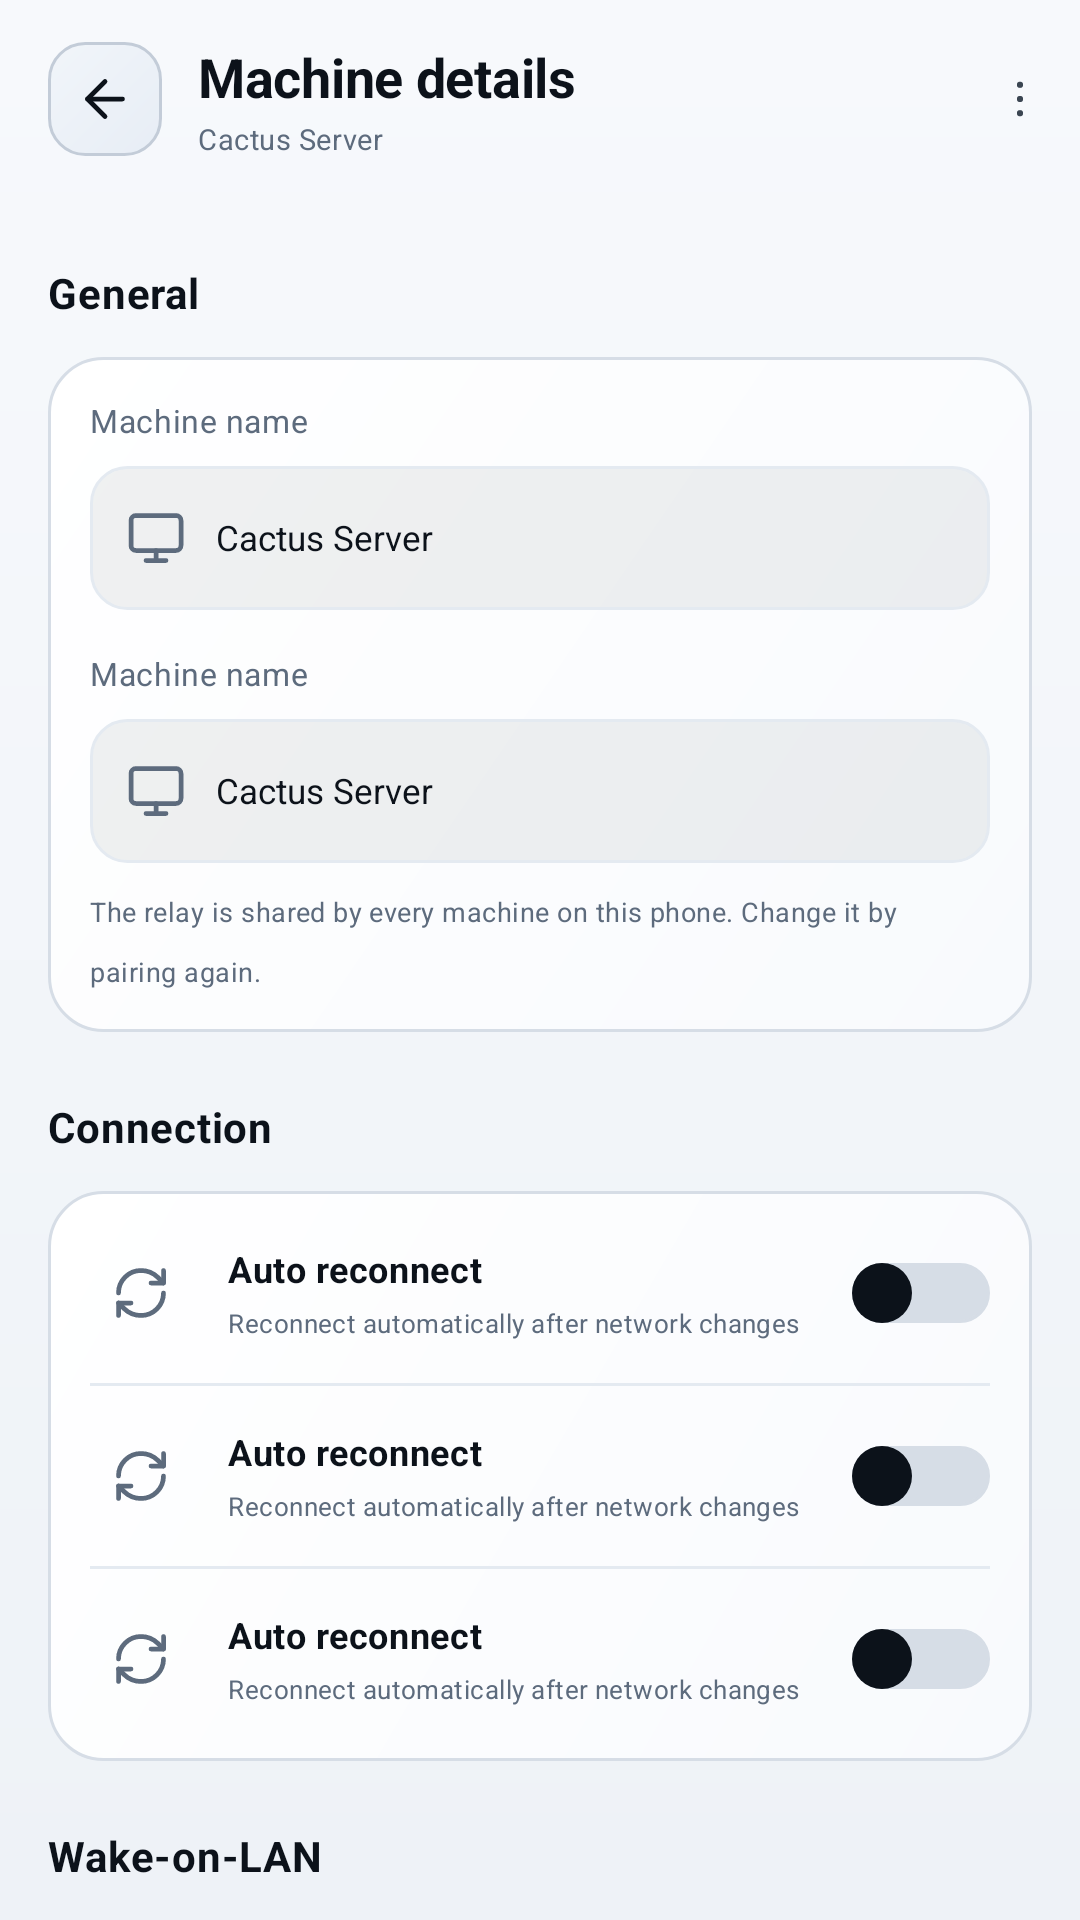

Icon click points for this 1080 × 1920 phone screenshot, format (x=x, y=y):
Back: (x=105, y=99)
More: (x=1020, y=99)
